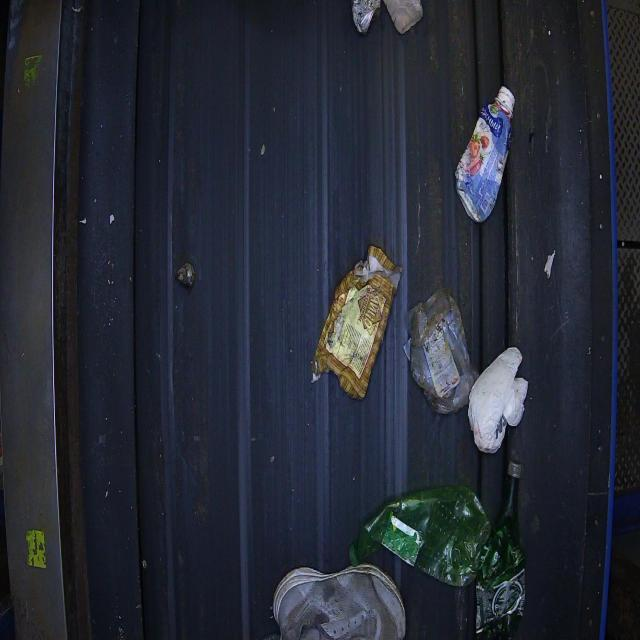bottles: (474, 459, 527, 639)
cardboard: (310, 244, 402, 400)
organic-waste: (453, 84, 515, 223)
trashbin: (348, 484, 492, 638)
